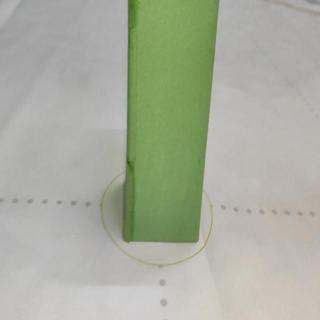greenbox: (126, 0, 207, 244)
